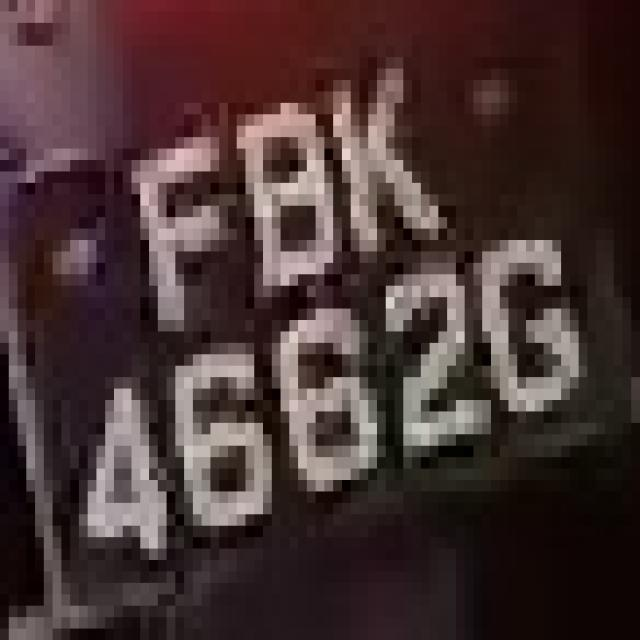2: (368, 263, 482, 468)
4: (53, 377, 175, 583)
6: (245, 251, 377, 503), (167, 308, 280, 548)
B: (228, 69, 351, 308)
F: (131, 114, 228, 366)
G: (465, 217, 596, 469)
K: (333, 57, 456, 263)
